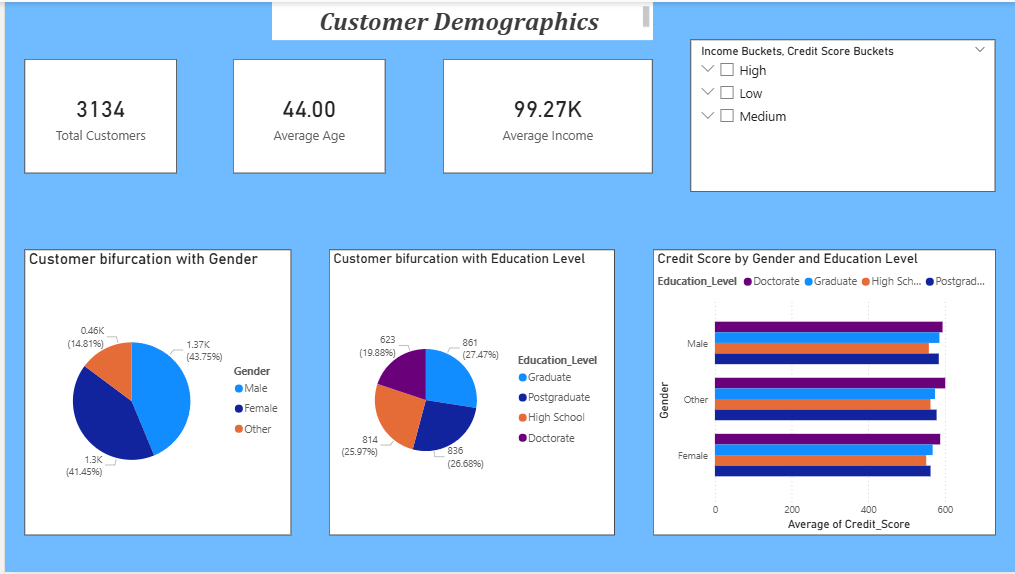

The page's visual inventory and layout, read from the dashboard file:
{"tool":"powerbi","page":{"name":"Customer Demographics","canvas":[1280,720],"ordinal":0},"visuals":[{"type":"card","fields":{"Values":["Analysis.Total Customers"]},"box":[24,72,192,144],"z":0},{"type":"textbox","box":[336,0,480,48],"z":1},{"type":"card","fields":{"Values":["Analysis.Average Age"]},"box":[288,72,192,144],"z":2},{"type":"card","fields":{"Values":["Analysis.Average Income"]},"box":[552,72,264,144],"z":3},{"type":"slicer","fields":{"Values":["Customer_Details.Income Bucket","Customer_Details.Credit Score Bucket"]},"box":[864,48,384,192],"z":4},{"type":"pieChart","title":"Customer bifurcation with Gender","fields":{"Category":["Customer_Details.Gender"],"Y":["CountNonNull(Customer_Details.Customer_ID)"]},"box":[24,312,336,360],"z":5},{"type":"pieChart","title":"Customer bifurcation with Education Level","fields":{"Category":["Customer_Details.Education_Level"],"Y":["CountNonNull(Customer_Details.Customer_ID)"]},"box":[408,312,360,360],"z":6},{"type":"clusteredBarChart","title":"Credit Score by Gender and Education Level","fields":{"Category":["Customer_Details.Gender"],"Series":["Customer_Details.Education_Level"],"Y":["Avg(Customer_Details.Credit_Score)"]},"box":[816,312,432,360],"z":7}]}

Visuals, with their boxes in screenshot pixels (x1, y1, x2, y2), scaled from the page's 1280x720 canvas onto the 1015x574 screenshot:
card - Analysis.Total Customers: bbox=[19, 57, 171, 172]
textbox: bbox=[266, 0, 647, 38]
card - Analysis.Average Age: bbox=[228, 57, 381, 172]
card - Analysis.Average Income: bbox=[438, 57, 647, 172]
slicer - Customer_Details.Income Bucket x Customer_Details.Credit Score Bucket: bbox=[685, 38, 990, 191]
"Customer bifurcation with Gender" pieChart: bbox=[19, 249, 285, 536]
"Customer bifurcation with Education Level" pieChart: bbox=[324, 249, 609, 536]
"Credit Score by Gender and Education Level" clusteredBarChart: bbox=[647, 249, 990, 536]
